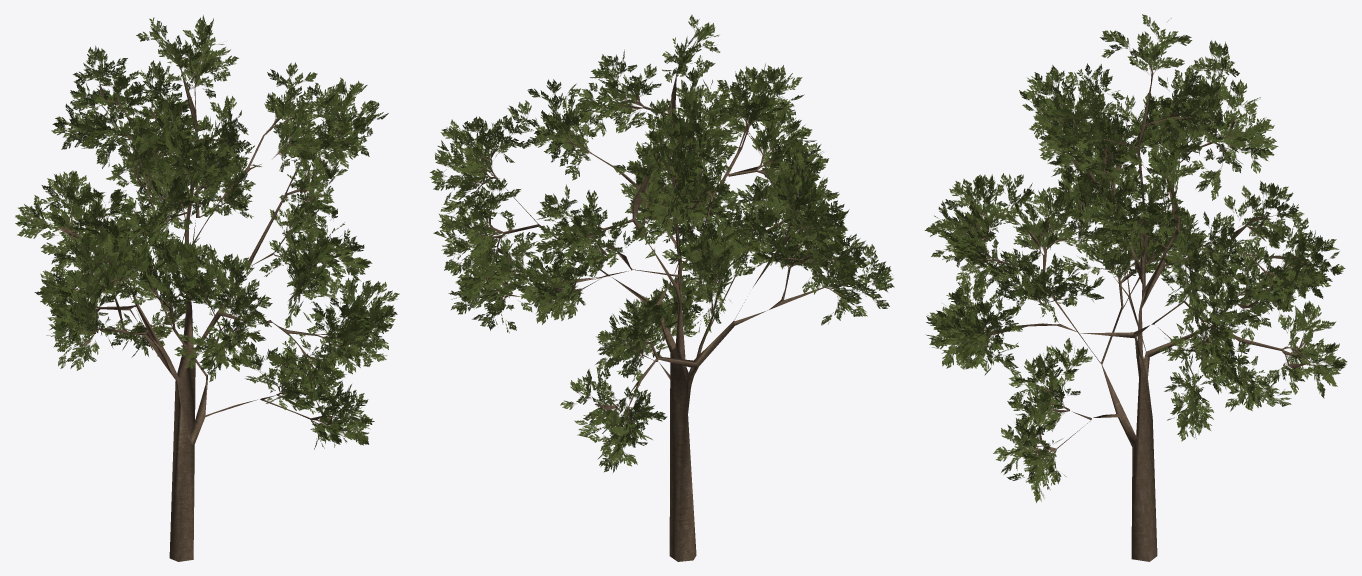
File: enc_tree_green_md.glb
3 views of the same model, side by side, from view 1: azimuth 30°, elevation 25°; view 2: azimuth 150°, elevation 25°; view 3: azimuth 270°, elevation 25° (orthographic).
Parts seen in each view (by area): view 1: KB3D_ENC_BldgSmUpperTownSquare_A_TreeA; view 2: KB3D_ENC_BldgSmUpperTownSquare_A_TreeA; view 3: KB3D_ENC_BldgSmUpperTownSquare_A_TreeA.
Part boxes in pixels (x1,y1,x2,y2): KB3D_ENC_BldgSmUpperTownSquare_A_TreeA: [15, 15, 399, 561]; KB3D_ENC_BldgSmUpperTownSquare_A_TreeA: [429, 14, 894, 561]; KB3D_ENC_BldgSmUpperTownSquare_A_TreeA: [924, 14, 1347, 561].
Bounding box in the file's own units: 6.53 × 8.39 × 6.03.
Materials: 2 (2 with a texture image).
